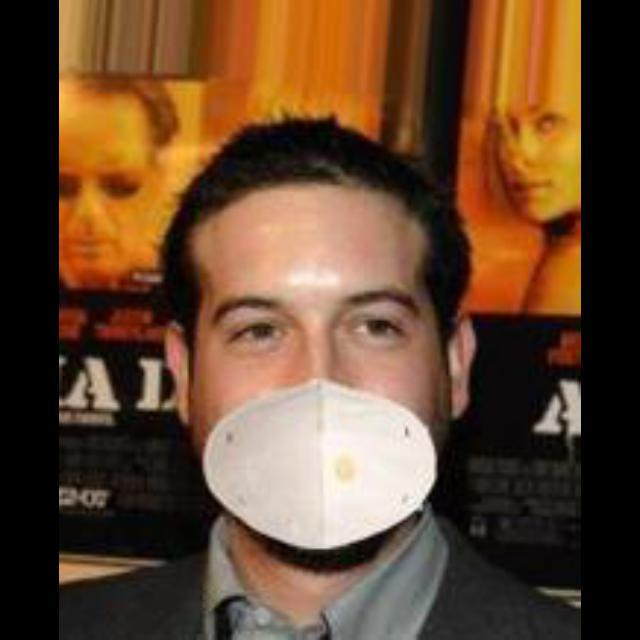suspicion: (161, 140, 501, 566)
